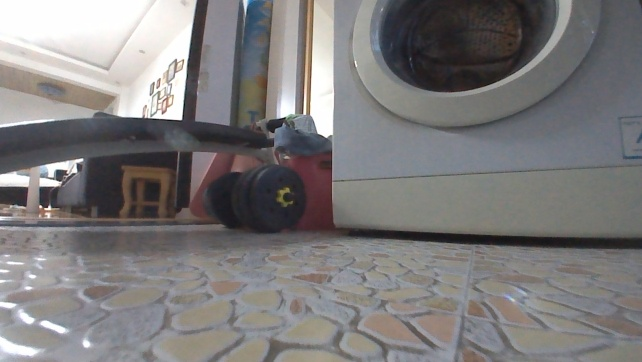sofa1: (45, 110, 179, 220)
washing_machine: (330, 0, 641, 245)
